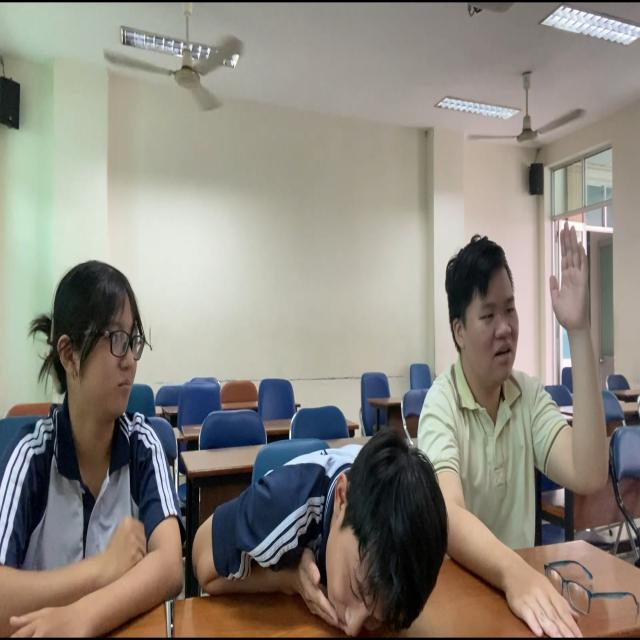raise_hand: (426, 221, 617, 596)
sleep: (191, 422, 447, 640)
